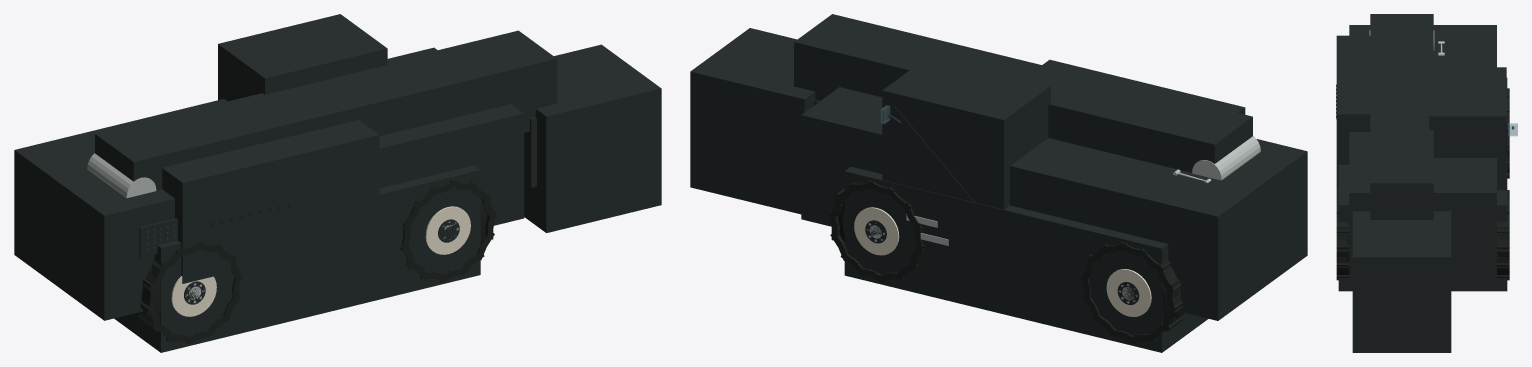
3 renders of one model, left to right at view 1: azimuth 30°, elevation 25°; view 2: azimuth 150°, elevation 25°; view 3: azimuth 270°, elevation 25°, orthographic. The views are drawn at different scales.
Visible parts, largest first — view 1: Chassis_Hit, Boom_Hit, Hydraulics_Hit, Steering_Hit, Carriage_Hit, Cab_Hit, WheelRimOuter_FR, BoomPivotPin, WheelRimOuter_RR, RadiatorGrille, QuickCoupler; view 2: Chassis_Hit, Steering_Hit, Boom_Hit, Cab_Hit, Carriage_Hit, Hydraulics_Hit, WheelRimOuter_FL, WheelRimOuter_RL, BoomPivotPin; view 3: Carriage_Hit, Boom_Hit, Chassis_Hit, Cab_Hit, Hydraulics_Hit, Steering_Hit.
Boxes of the visible parts, <box> form: Chassis_Hit: <box>14,47,524,320</box>; Boom_Hit: <box>95,30,557,190</box>; Hydraulics_Hit: <box>162,120,379,283</box>; Steering_Hit: <box>114,165,480,352</box>; Carriage_Hit: <box>524,44,661,232</box>; Cab_Hit: <box>218,14,387,101</box>; WheelRimOuter_FR: <box>425,206,470,254</box>; BoomPivotPin: <box>87,153,156,197</box>; WheelRimOuter_RR: <box>171,276,216,316</box>; RadiatorGrille: <box>139,218,177,257</box>; QuickCoupler: <box>524,117,536,187</box>; Chassis_Hit: <box>801,87,1307,320</box>; Steering_Hit: <box>844,166,1208,352</box>; Boom_Hit: <box>794,14,1252,172</box>; Cab_Hit: <box>882,56,1050,209</box>; Carriage_Hit: <box>690,28,815,214</box>; Hydraulics_Hit: <box>1042,59,1245,114</box>; WheelRimOuter_FL: <box>854,207,899,255</box>; WheelRimOuter_RL: <box>1106,269,1151,316</box>; BoomPivotPin: <box>1192,135,1260,180</box>; Carriage_Hit: <box>1352,211,1451,352</box>; Boom_Hit: <box>1370,14,1433,219</box>; Chassis_Hit: <box>1349,25,1496,278</box>; Cab_Hit: <box>1429,67,1506,190</box>; Hydraulics_Hit: <box>1336,35,1370,189</box>; Steering_Hit: <box>1338,78,1507,291</box>.
Size of the model in its own units: 7.53 by 2.51 by 2.59.
